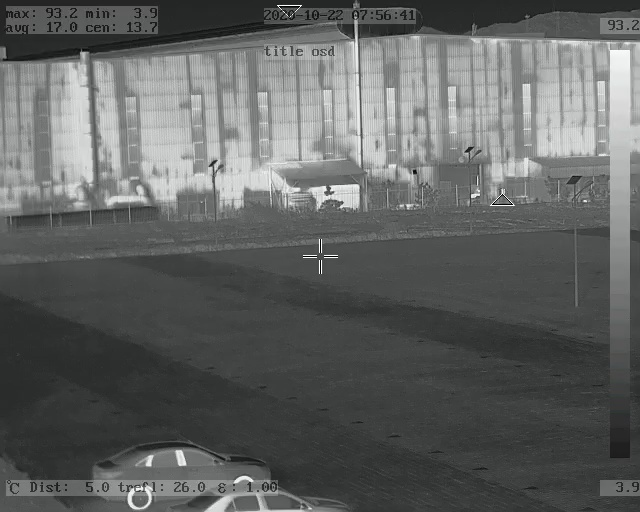vehicle: (88, 441, 281, 508)
